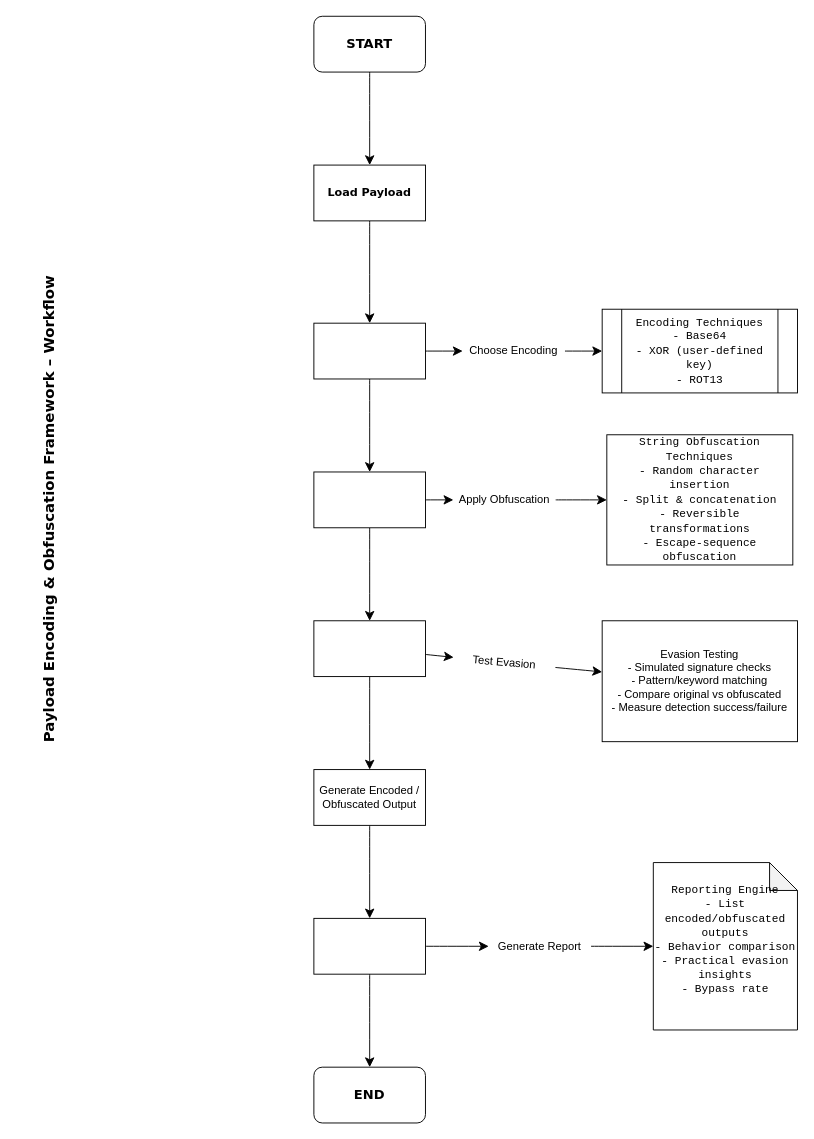
This 814x1139 diagram has some shape labels left out. Here are the shapes that lost their labels. From the top down, the centre of each, then its label:
point (369, 350): Select Encoding / Obfuscation Method
point (369, 499): Apply Obfuscation Layers
point (369, 648): Run Evasion Test
point (369, 945): Create Final Report
